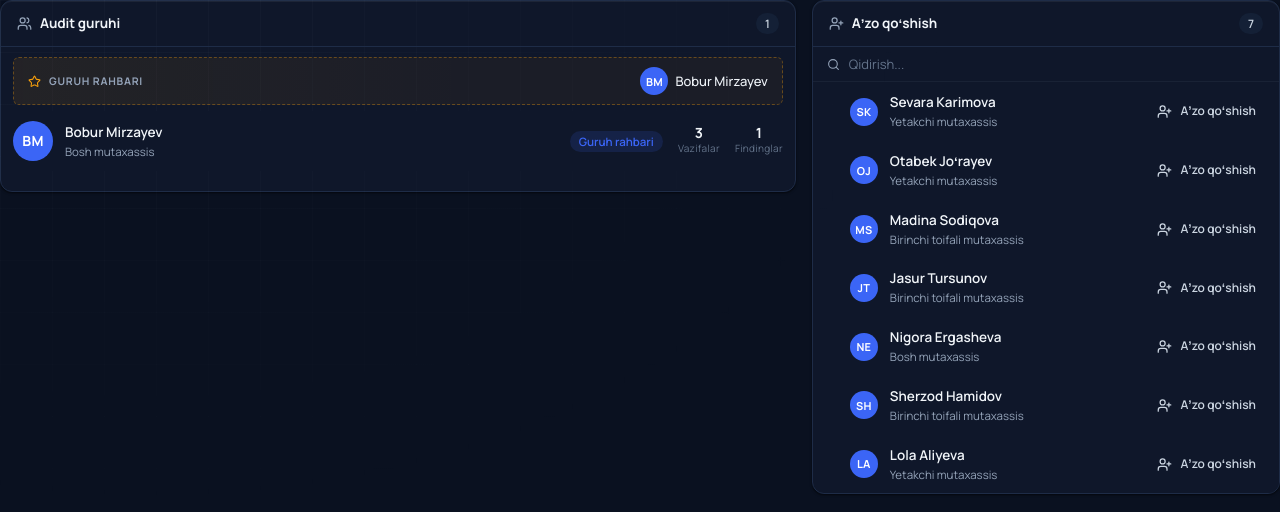
Test case: Group tab › search filters candidates by name (case-insensitive)
In the field with placeholder "Qidirish...": (1056, 64) [847, 54, 1265, 74], type "sevara"
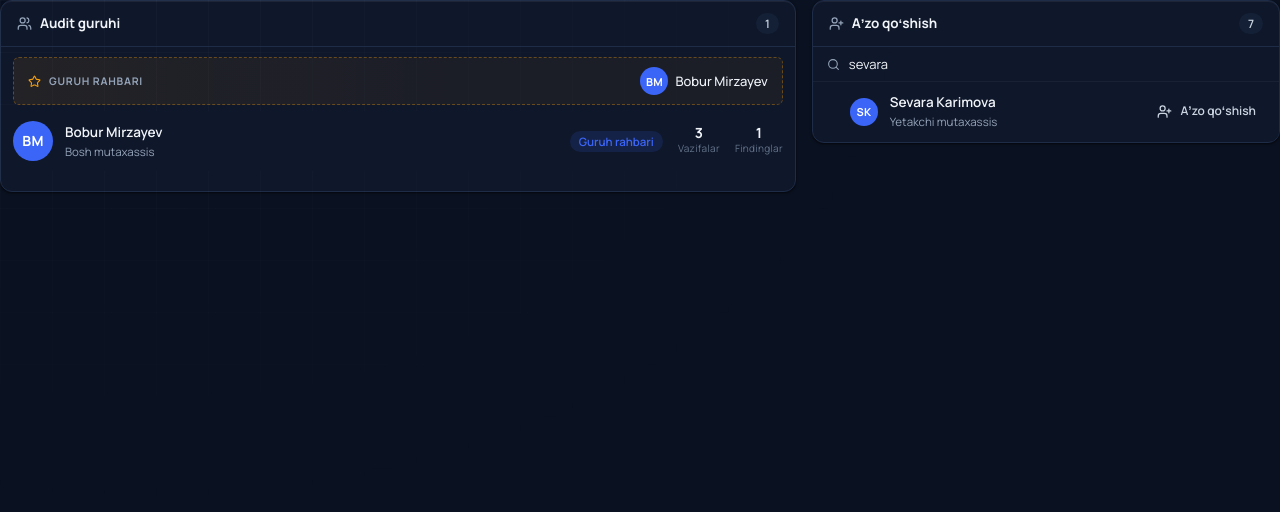
Expected: the text "Sevara Karimova" is shown, [890, 93, 996, 111]
Expected: the button "Otabek Joʻrayev" is gone
